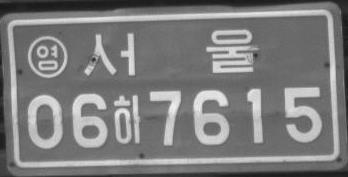0: (27, 93, 63, 150)
1: (239, 87, 273, 144)
5: (283, 86, 323, 143)
6: (192, 89, 230, 147), (71, 92, 108, 149)
7: (149, 89, 181, 145)
서울_D: (83, 28, 258, 77)
영: (27, 34, 68, 79)
하: (113, 95, 143, 144)
